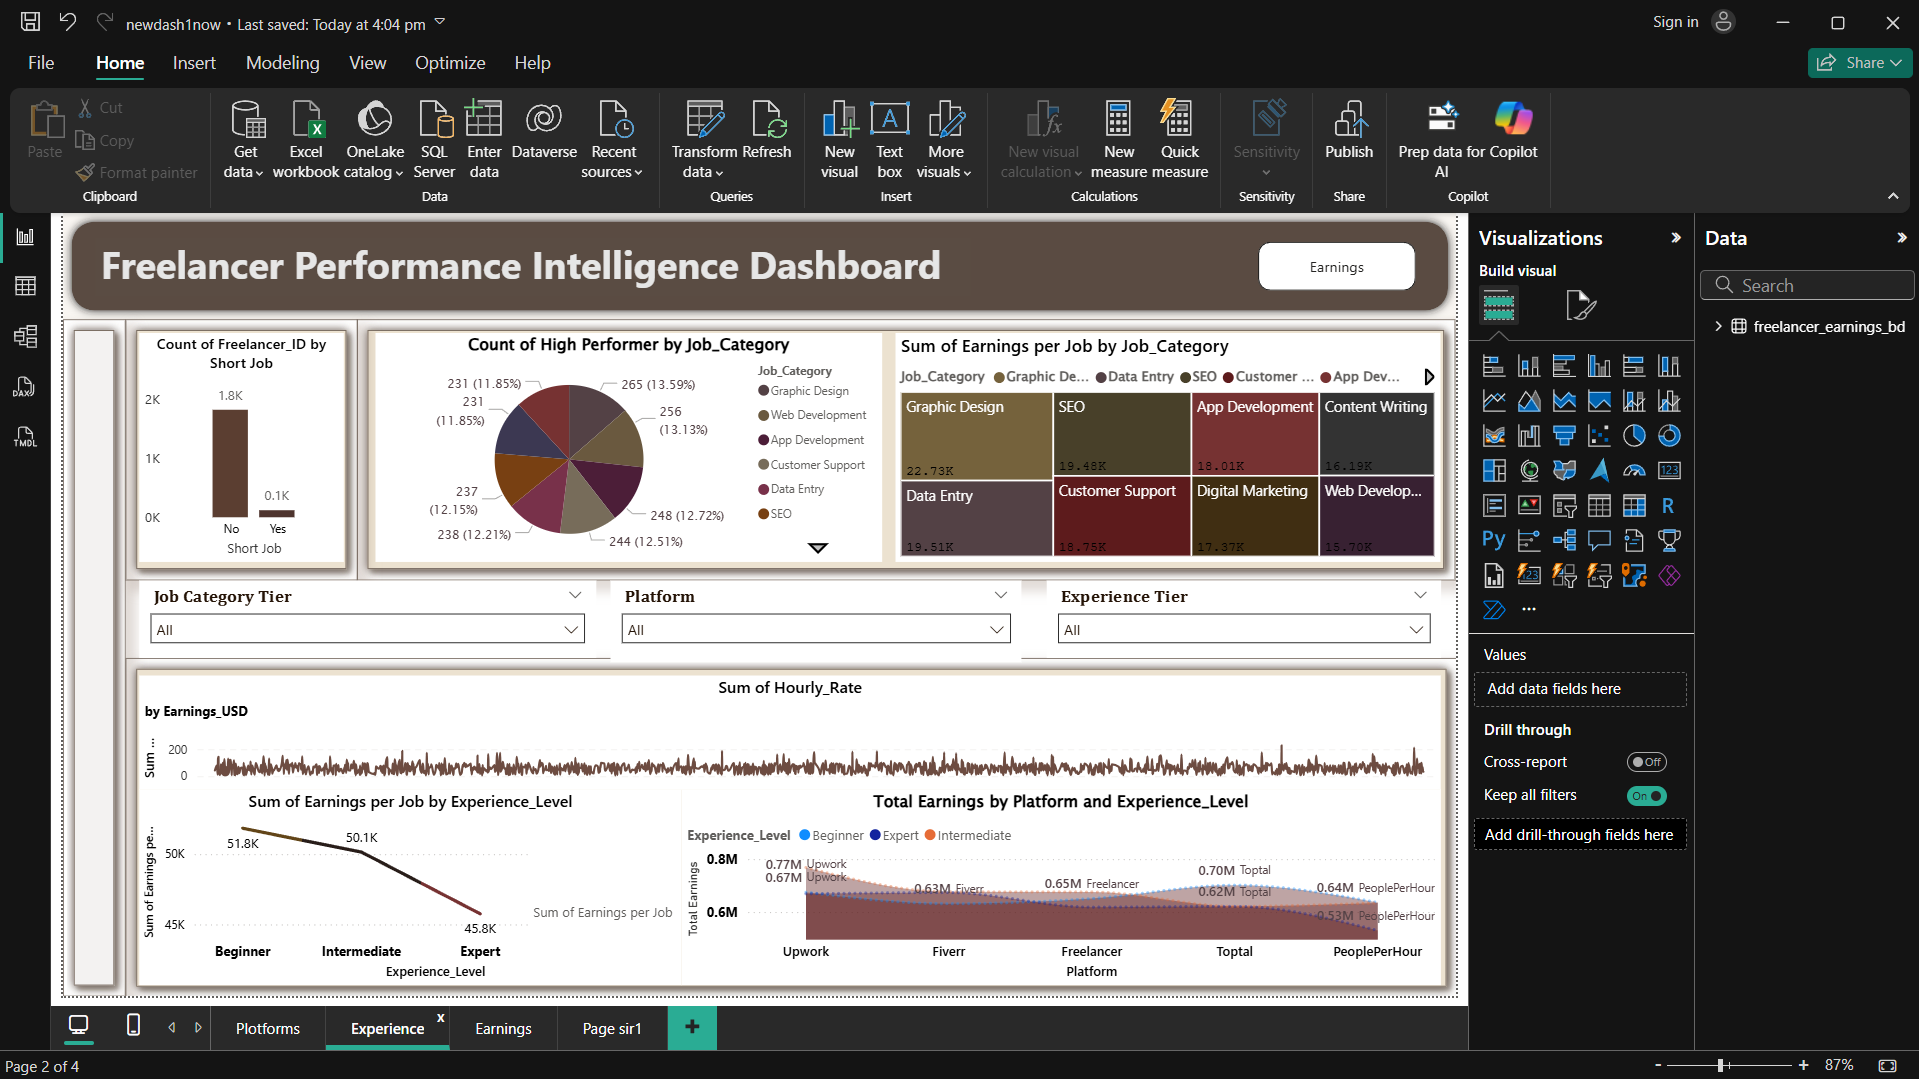

The page's visual inventory and layout, read from the dashboard file:
{"tool":"powerbi","page":{"name":"Experience","canvas":[1280,720],"ordinal":1},"visuals":[{"type":"shape","box":[0,0,1280.8,97.6],"z":0},{"type":"shape","box":[0,97.6,57.4,622.6],"z":1000},{"type":"shape","box":[57.2,408.5,1224.2,312.3],"z":2000},{"type":"shape","box":[270.5,97.6,1009.5,239.8],"z":3000},{"type":"shape","box":[57.2,97.6,213.3,239.8],"z":4000},{"type":"textbox","title":"Freelancer Performance Intelligence Dashboard","box":[29.9,23,804.1,52.8],"z":5000},{"type":"columnChart","fields":{"Category":["freelancer_earnings_bd.Short Job"],"Y":["CountNonNull(freelancer_earnings_bd.Freelancer_ID)"]},"box":[69.7,110.2,188.2,210.5],"z":6000},{"type":"treemap","fields":{"Group":["freelancer_earnings_bd.Job_Category"],"Values":["Sum(freelancer_earnings_bd.Earnings per Job)"]},"box":[765.5,110.2,500.6,210.5],"z":7000},{"type":"pieChart","fields":{"Category":["freelancer_earnings_bd.Job_Category"],"Y":["CountNonNull(freelancer_earnings_bd.High Performer)"]},"box":[287.2,110.3,465.2,210.2],"z":8000},{"type":"lineChart","fields":{"Category":["freelancer_earnings_bd.Earnings_USD"],"Y":["Sum(freelancer_earnings_bd.Hourly_Rate)"]},"box":[69.7,425.3,1196.3,104.6],"z":9000},{"type":"lineChart","fields":{"Category":["freelancer_earnings_bd.Experience_Level"],"Y":["Sum(freelancer_earnings_bd.Earnings per Job)"]},"box":[70.1,529.5,498.5,180.3],"z":10000},{"type":"areaChart","fields":{"Category":["freelancer_earnings_bd.Platform"],"Series":["freelancer_earnings_bd.Experience_Level"],"Y":["freelancer_earnings_bd.Total Earnings"]},"box":[568.6,529.5,697.3,180.3],"z":11000},{"type":"pageNavigator","box":[1098.3,26.5,145.6,45.7],"z":12000},{"type":"slicer","title":"hourly_rate_group","fields":{"Values":["freelancer_earnings_bd.Job Category Tier"]},"box":[69.7,337.4,419.7,71.1],"z":12501},{"type":"slicer","title":"high_performer","fields":{"Values":["freelancer_earnings_bd.Platform"]},"box":[503.4,337.4,377.9,75.3],"z":13002},{"type":"slicer","title":"earning_group","fields":{"Values":["freelancer_earnings_bd.Experience Tier"]},"box":[903.5,337.4,362.5,71.1],"z":13503}]}

Visuals, with their boxes on the page's 1280x720 design canvas (x1, y1, x2, y2). These are canvas units, not pixel positions in the 1919x1079 screenshot, which may show the page scaled, cropped or inside an application window:
shape: BBox(0, 0, 1281, 98)
shape: BBox(0, 98, 57, 720)
shape: BBox(57, 408, 1281, 721)
shape: BBox(270, 98, 1280, 337)
shape: BBox(57, 98, 270, 337)
"Freelancer Performance Intelligence Dashboard" textbox: BBox(30, 23, 834, 76)
columnChart - freelancer_earnings_bd.Short Job x CountNonNull(freelancer_earnings_bd.Freelancer_ID): BBox(70, 110, 258, 321)
treemap - freelancer_earnings_bd.Job_Category x Sum(freelancer_earnings_bd.Earnings per Job): BBox(766, 110, 1266, 321)
pieChart - freelancer_earnings_bd.Job_Category x CountNonNull(freelancer_earnings_bd.High Performer): BBox(287, 110, 752, 320)
lineChart - freelancer_earnings_bd.Earnings_USD x Sum(freelancer_earnings_bd.Hourly_Rate): BBox(70, 425, 1266, 530)
lineChart - freelancer_earnings_bd.Experience_Level x Sum(freelancer_earnings_bd.Earnings per Job): BBox(70, 530, 569, 710)
areaChart - freelancer_earnings_bd.Platform x freelancer_earnings_bd.Experience_Level: BBox(569, 530, 1266, 710)
pageNavigator: BBox(1098, 26, 1244, 72)
"hourly_rate_group" slicer: BBox(70, 337, 489, 408)
"high_performer" slicer: BBox(503, 337, 881, 413)
"earning_group" slicer: BBox(904, 337, 1266, 408)
